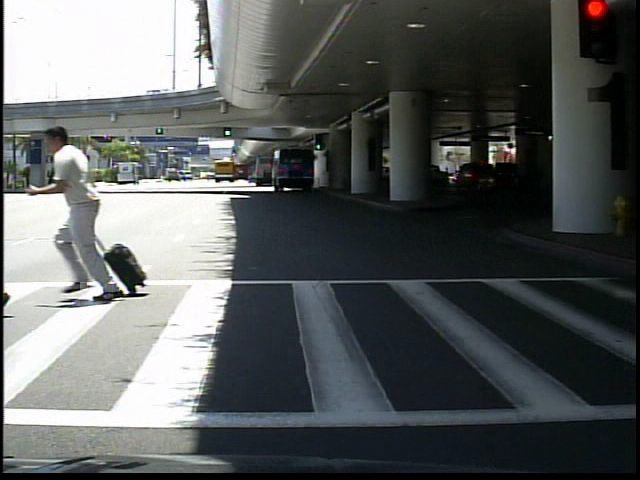person: (51, 123, 135, 302)
